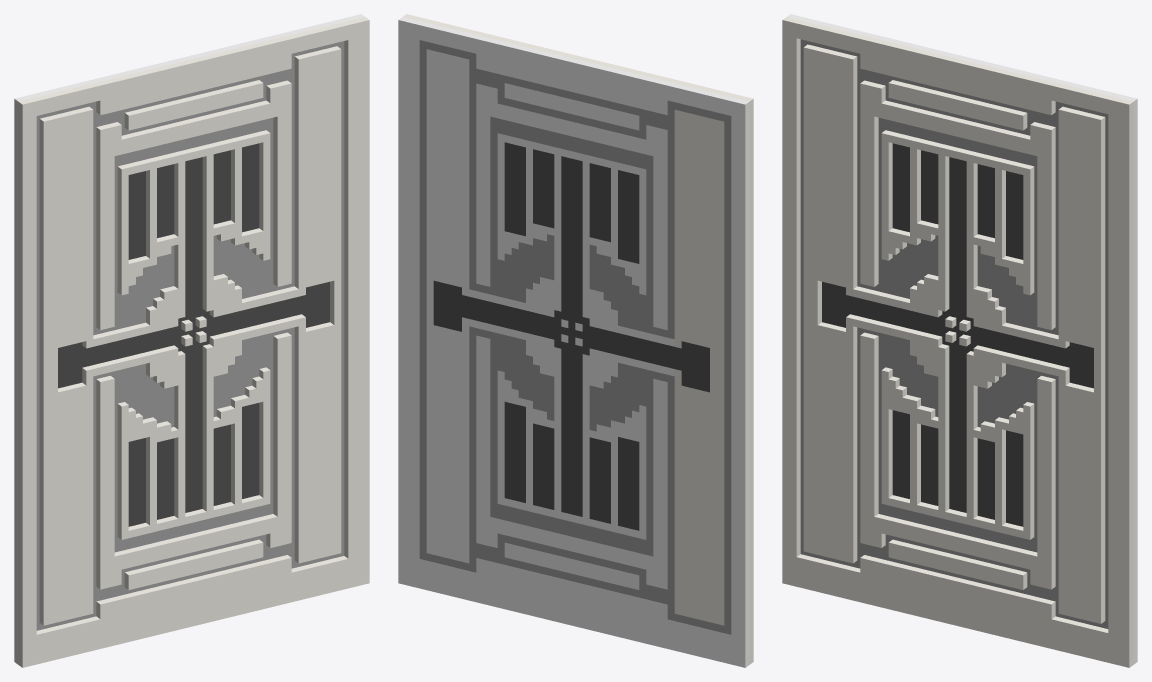
File: Door_0.obj
3 renders of one model, left to right at view 1: azimuth 30°, elevation 25°; view 2: azimuth 150°, elevation 25°; view 3: azimuth 330°, elevation 25°, orthographic.
Bounding box in the file's own units: 49 × 76 × 2.
